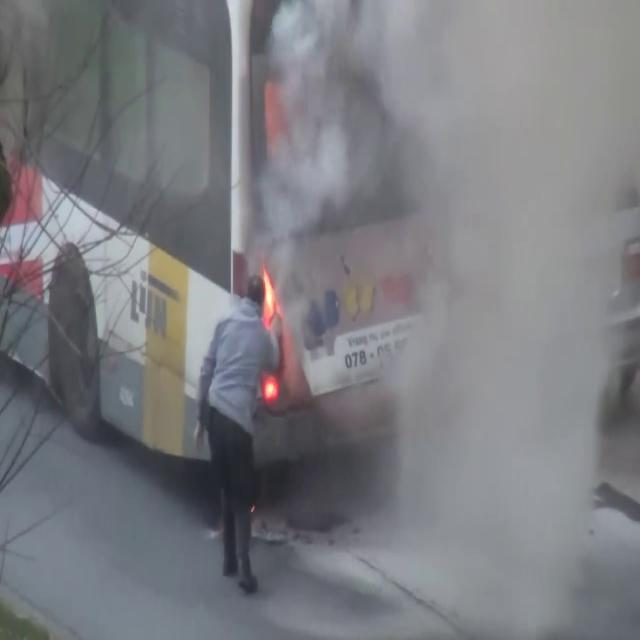Smoke: (248, 0, 640, 626)
